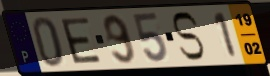0: (31, 15, 67, 69)
1: (213, 11, 240, 59)
5: (130, 11, 170, 65)
9: (102, 13, 137, 66)
E: (58, 16, 104, 65)
S: (170, 10, 207, 63)
